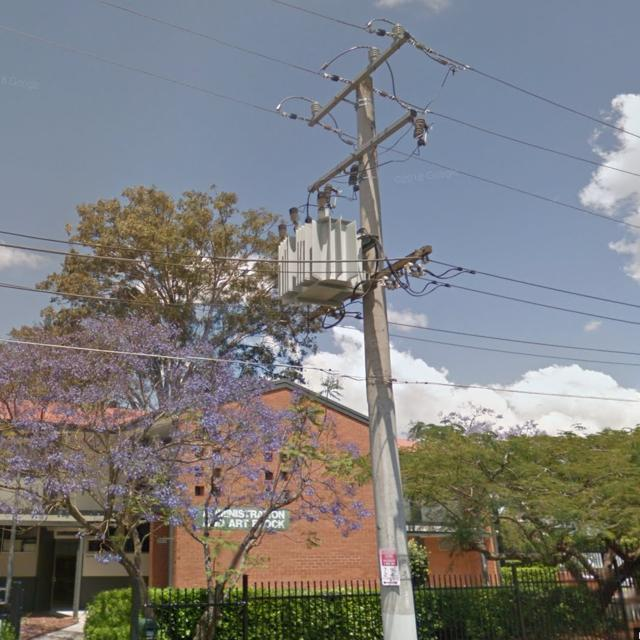HV-transmission: (276, 18, 468, 201)
LV link: (380, 273, 452, 297), (404, 260, 477, 280)
concrete-pole: (354, 74, 418, 639)
crossarm: (307, 32, 410, 128), (308, 244, 432, 322), (308, 108, 419, 193)
transformer: (276, 204, 365, 314)
